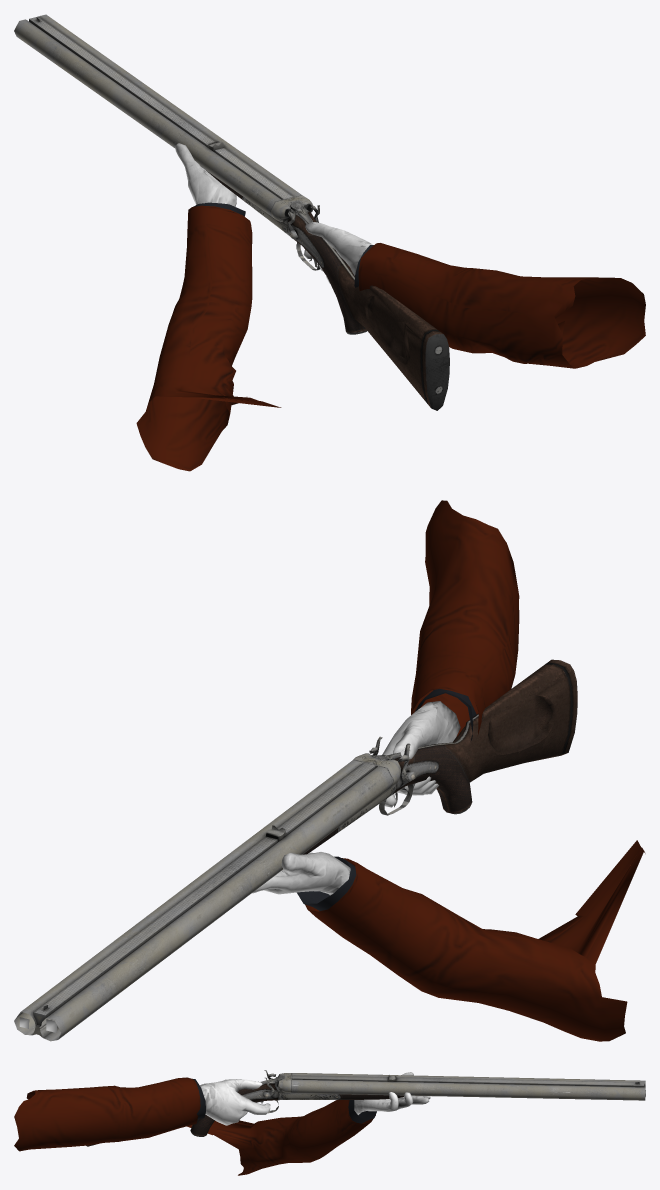
File: frame_28.obj
The picture shows the model from 3 angles, top to bottom: view 1: azimuth 30°, elevation 25°; view 2: azimuth 150°, elevation 25°; view 3: azimuth 270°, elevation 25°; orthographic projection. The views are drawn at different scales.
Parts seen in each view (by area): view 1: PlayerModelMerged.001_PlayerModelMerged, double_-_barreled_shotgun_L_double_-_barreled_shotgun_LP_к.002, double_-_barreled_shotgun_L_double_-_barreled_shotgun_LP_к.001; view 2: PlayerModelMerged.001_PlayerModelMerged, double_-_barreled_shotgun_L_double_-_barreled_shotgun_LP_к.002, double_-_barreled_shotgun_L_double_-_barreled_shotgun_LP_к.001; view 3: PlayerModelMerged.001_PlayerModelMerged, double_-_barreled_shotgun_L_double_-_barreled_shotgun_LP_к.002, double_-_barreled_shotgun_L_double_-_barreled_shotgun_LP_к.001.
Part boxes in pixels (x1,y1,x2,y2): PlayerModelMerged.001_PlayerModelMerged: [136, 143, 645, 471]; double_-_barreled_shotgun_L_double_-_barreled_shotgun_LP_к.002: [14, 14, 301, 216]; double_-_barreled_shotgun_L_double_-_barreled_shotgun_LP_к.001: [206, 170, 449, 410]; PlayerModelMerged.001_PlayerModelMerged: [252, 500, 645, 1041]; double_-_barreled_shotgun_L_double_-_barreled_shotgun_LP_к.002: [14, 760, 393, 1041]; double_-_barreled_shotgun_L_double_-_barreled_shotgun_LP_к.001: [303, 659, 577, 854]; PlayerModelMerged.001_PlayerModelMerged: [14, 1072, 430, 1175]; double_-_barreled_shotgun_L_double_-_barreled_shotgun_LP_к.002: [292, 1073, 645, 1100]; double_-_barreled_shotgun_L_double_-_barreled_shotgun_LP_к.001: [86, 1070, 403, 1146].
Size of the model in its own units: 0.8331 by 0.5765 by 2.
